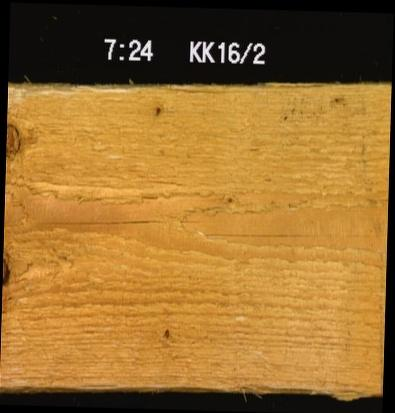small_knot: (159, 322, 169, 340), (150, 104, 165, 115)
split: (2, 211, 203, 235), (193, 224, 386, 242), (166, 83, 322, 104)
wave: (237, 375, 364, 405), (6, 81, 138, 99)
